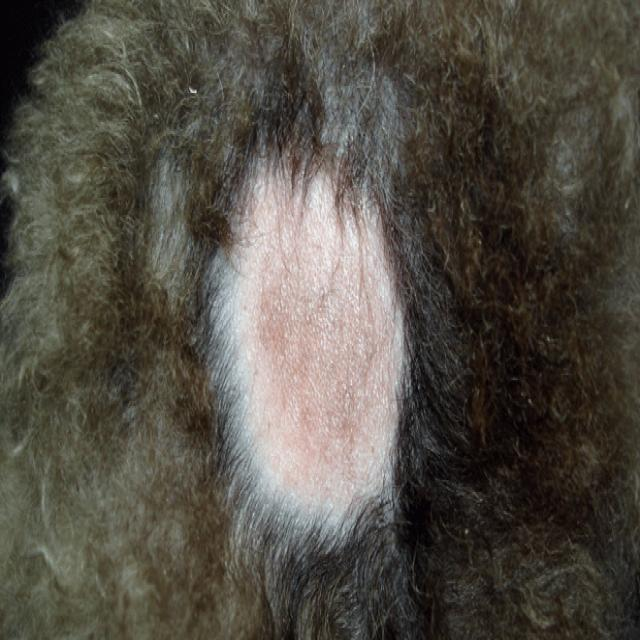cat-hairloss: (217, 170, 402, 546)
